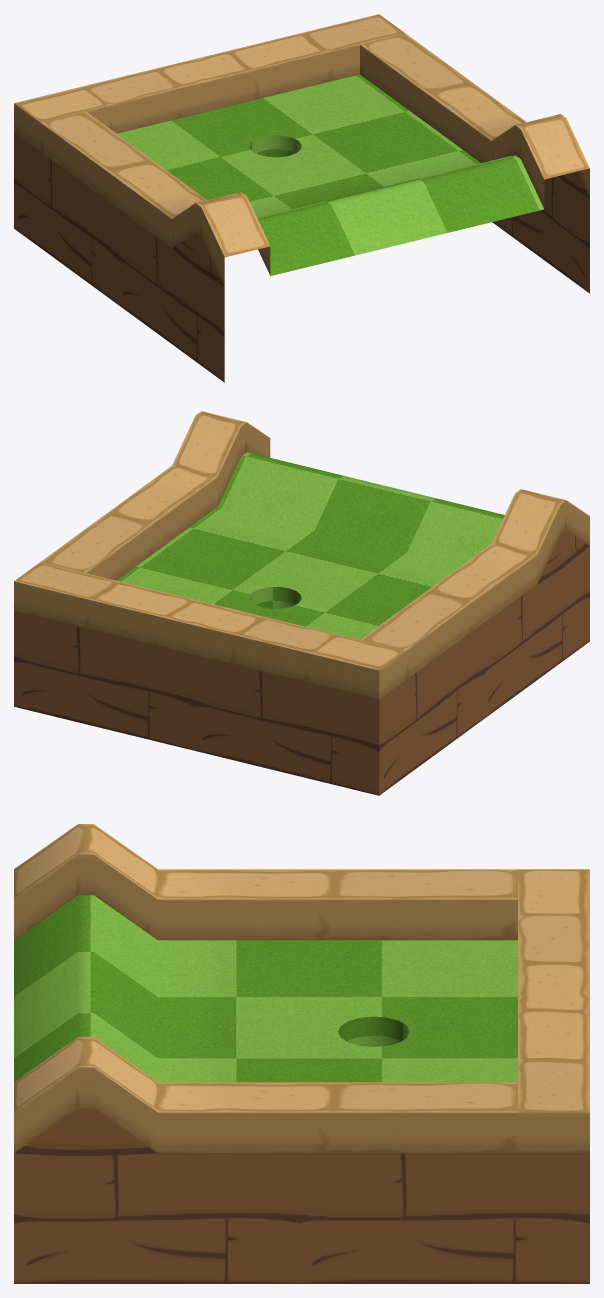
Rendered from tile18.FBX.
The picture shows the model from 3 angles, top to bottom: view 1: azimuth 30°, elevation 25°; view 2: azimuth 150°, elevation 25°; view 3: azimuth 270°, elevation 25°; orthographic projection. The views are drawn at different scales.
Visible parts, largest first — view 1: tile18_walls, tile18_floor, tile18_hole; view 2: tile18_walls, tile18_floor, tile18_hole; view 3: tile18_walls, tile18_floor, tile18_hole.
Part boxes in pixels (x1,y1,x2,y2): tile18_walls: (14, 14, 589, 382); tile18_floor: (117, 74, 543, 275); tile18_hole: (249, 135, 301, 157); tile18_walls: (14, 411, 589, 795); tile18_floor: (117, 452, 504, 639); tile18_hole: (249, 587, 301, 608); tile18_walls: (14, 824, 589, 1283); tile18_floor: (14, 895, 517, 1082); tile18_hole: (338, 1016, 409, 1046).
Size of the model in its own units: 1280 by 531 by 1280.
